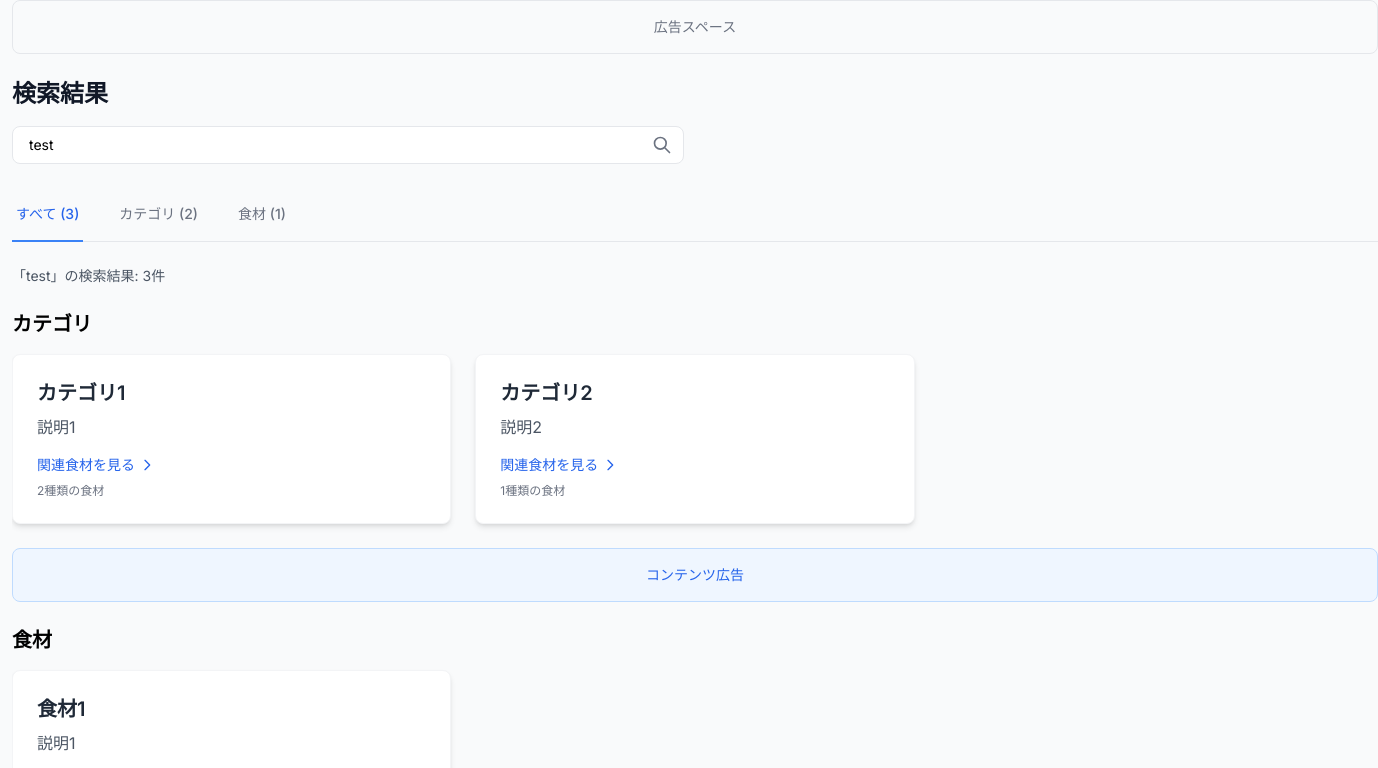
Test: SearchResultsPage › filters results when tab is changed
Expected: the heading "カテゴリ1" is shown, [37, 381, 126, 405]
Expected: the heading "食材1" is shown, [37, 697, 86, 721]
Note: Click on categories tab
What coordinates should you click on to do the following:
click the button "カテゴリ (2)"
I would click on:
 (159, 215)
Its box is [115, 188, 202, 242].
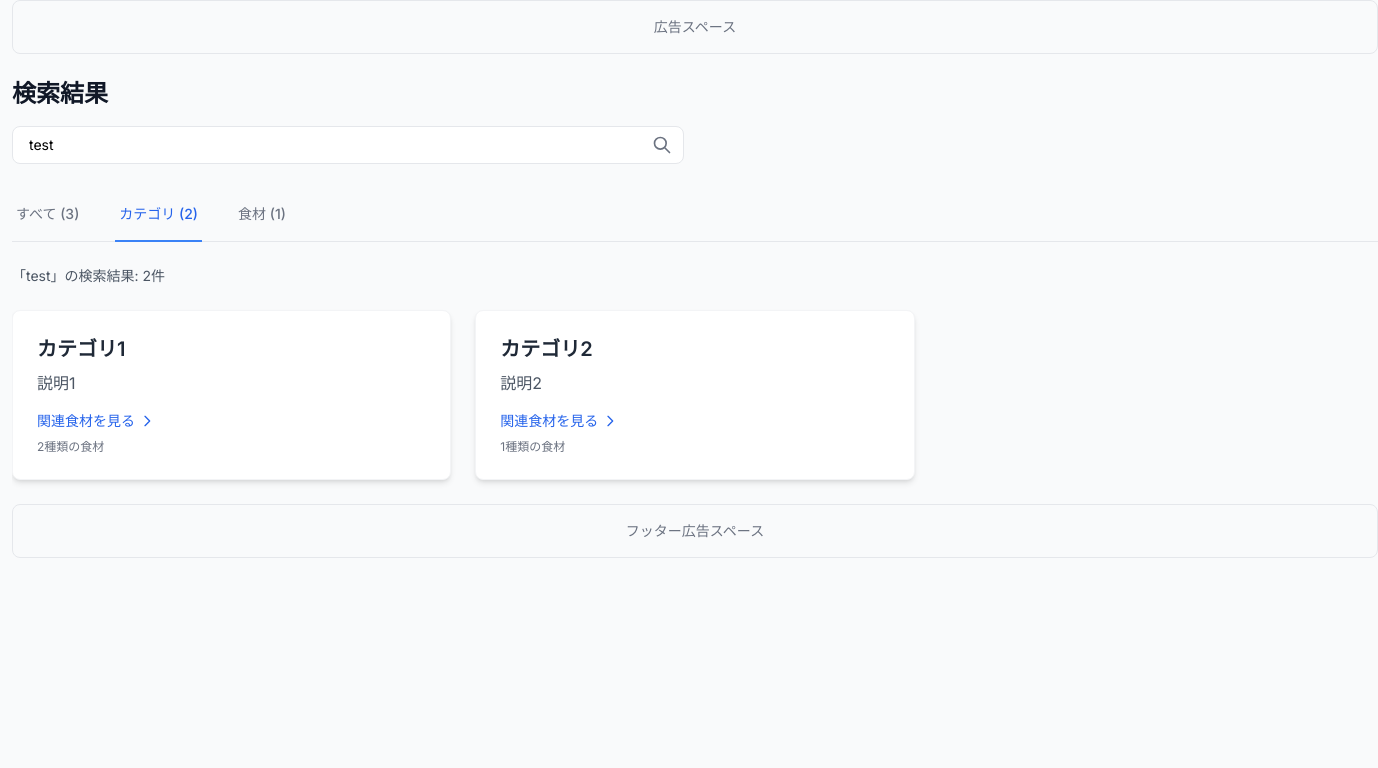
Expected: the heading "カテゴリ1" is shown, [37, 337, 126, 361]
Expected: the link "食材1" is gone
Note: Click on foods tab
What coordinates should you click on to do the following:
click the button "食材 (1)"
I would click on:
 (262, 215)
Its box is [234, 188, 290, 242].
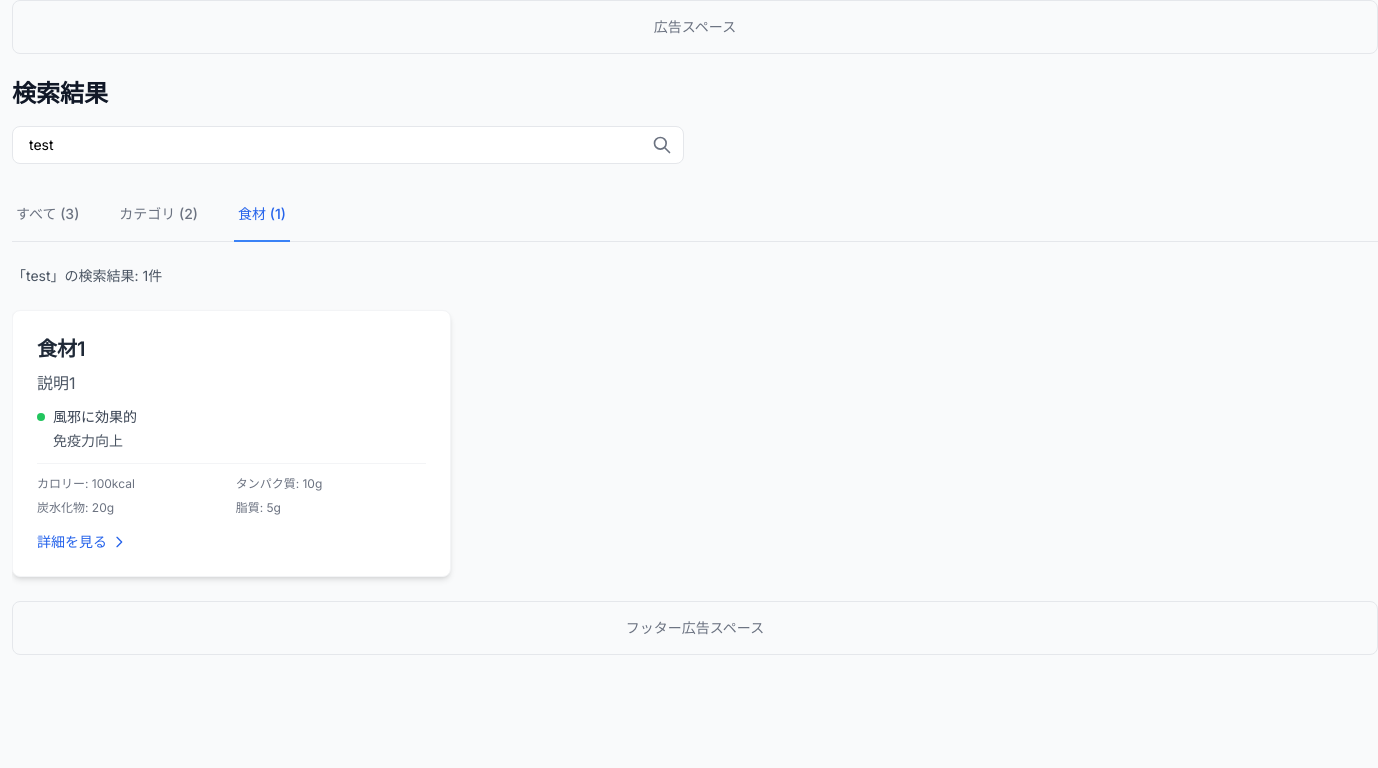
Expected: the link "カテゴリ1" is gone
Expected: the heading "食材1" is shown, [37, 337, 86, 361]
